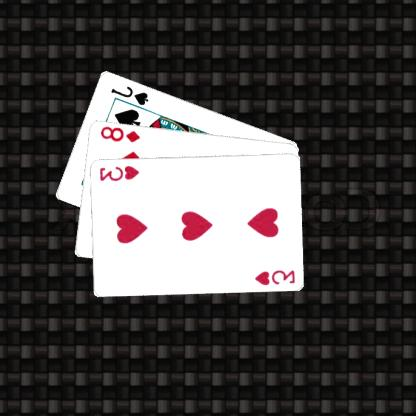3H: (99, 162, 142, 183), (254, 267, 297, 286)
8D: (100, 123, 143, 143)
JS: (110, 83, 152, 107)
